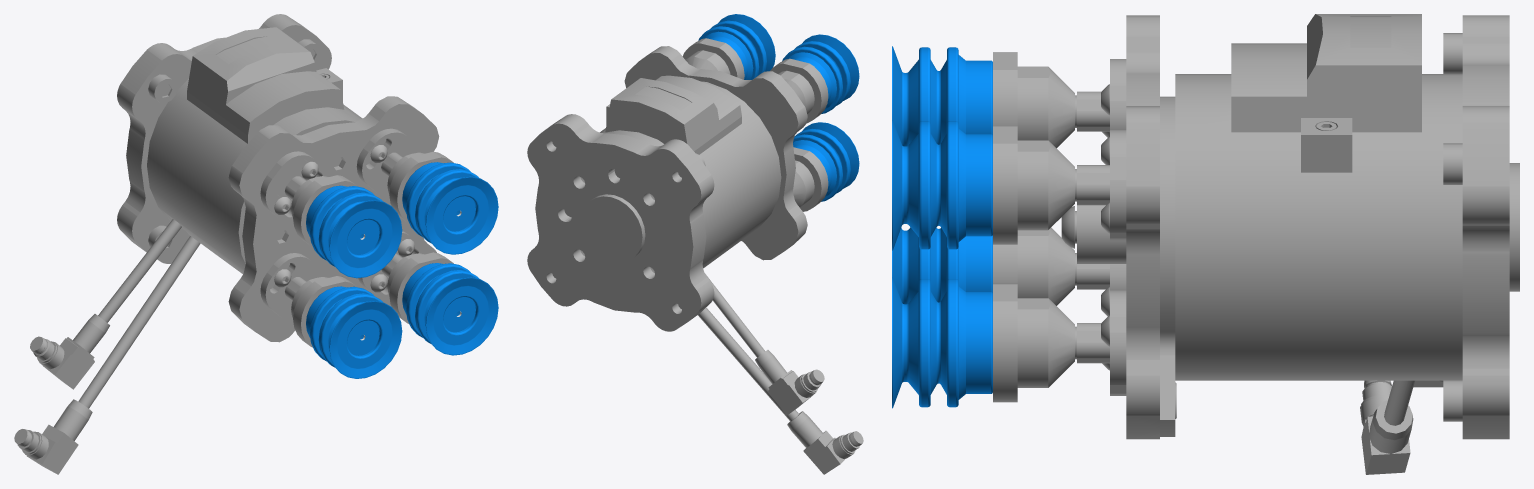
The model's file is SuctionGripper.fbx.
3 renders of one model, left to right at view 1: azimuth 30°, elevation 25°; view 2: azimuth 150°, elevation 25°; view 3: azimuth 270°, elevation 25°, orthographic. The views are drawn at different scales.
Parts seen in each view (by area): view 1: ZXP7A(0_1)_41_1, ZXP7-PFL1-A-X1(30_30_30_30_0_0_0_0_1_ZP3P)_2, ZP3P-32JT2SF-WM_10, ZP3P-32JT2SF-WM_4, ZP3P-32JT2SF-WM_8, ZP3P-32JT2SF-WM_6, ZP3PA-T2JT-7A-X2_9, ZP3PA-T2JT-7A-X2_3, ZP3PA-T2JT-7A-X2_7, ZP3PA-T2JT-7A-X2_5, M6x10_11, M6x10_12; view 2: ZXP7A(0_1)_41_1, ZXP7-PFL1-A-X1(30_30_30_30_0_0_0_0_1_ZP3P)_2, ZP3P-32JT2SF-WM_10, ZP3P-32JT2SF-WM_4, ZP3P-32JT2SF-WM_8, ZP3PA-T2JT-7A-X2_9, ZP3PA-T2JT-7A-X2_3, ZP3PA-T2JT-7A-X2_7; view 3: ZXP7A(0_1)_41_1, ZXP7-PFL1-A-X1(30_30_30_30_0_0_0_0_1_ZP3P)_2, ZP3P-32JT2SF-WM_8, ZP3P-32JT2SF-WM_6, ZP3P-32JT2SF-WM_10, ZP3PA-T2JT-7A-X2_7, ZP3PA-T2JT-7A-X2_5, ZP3PA-T2JT-7A-X2_9, ZP3P-32JT2SF-WM_4, ZP3PA-T2JT-7A-X2_3.
Part boxes in pixels (x1=…): ZXP7A(0_1)_41_1: x1=14, y1=14, x2=362, y2=474; ZXP7-PFL1-A-X1(30_30_30_30_0_0_0_0_1_ZP3P)_2: x1=228, y1=96, x2=439, y2=342; ZP3P-32JT2SF-WM_10: x1=306, y1=185, x2=402, y2=278; ZP3P-32JT2SF-WM_4: x1=306, y1=286, x2=402, y2=378; ZP3P-32JT2SF-WM_8: x1=402, y1=162, x2=498, y2=254; ZP3P-32JT2SF-WM_6: x1=402, y1=263, x2=498, y2=355; ZP3PA-T2JT-7A-X2_9: x1=291, y1=175, x2=357, y2=246; ZP3PA-T2JT-7A-X2_3: x1=291, y1=276, x2=357, y2=347; ZP3PA-T2JT-7A-X2_7: x1=387, y1=151, x2=453, y2=223; ZP3PA-T2JT-7A-X2_5: x1=387, y1=252, x2=453, y2=324; M6x10_11: x1=270, y1=223, x2=294, y2=250; M6x10_12: x1=327, y1=150, x2=351, y2=175; ZXP7A(0_1)_41_1: x1=527, y1=75, x2=863, y2=474; ZXP7-PFL1-A-X1(30_30_30_30_0_0_0_0_1_ZP3P)_2: x1=624, y1=46, x2=807, y2=260; ZP3P-32JT2SF-WM_10: x1=782, y1=34, x2=859, y2=113; ZP3P-32JT2SF-WM_4: x1=793, y1=122, x2=859, y2=201; ZP3P-32JT2SF-WM_8: x1=698, y1=14, x2=775, y2=79; ZP3PA-T2JT-7A-X2_9: x1=770, y1=58, x2=828, y2=123; ZP3PA-T2JT-7A-X2_3: x1=793, y1=147, x2=828, y2=211; ZP3PA-T2JT-7A-X2_7: x1=682, y1=38, x2=744, y2=79; ZXP7A(0_1)_41_1: x1=1175, y1=14, x2=1519, y2=474; ZXP7-PFL1-A-X1(30_30_30_30_0_0_0_0_1_ZP3P)_2: x1=1077, y1=15, x2=1176, y2=439; ZP3P-32JT2SF-WM_8: x1=892, y1=120, x2=992, y2=250; ZP3P-32JT2SF-WM_6: x1=892, y1=277, x2=992, y2=408; ZP3P-32JT2SF-WM_10: x1=892, y1=46, x2=992, y2=146; ZP3PA-T2JT-7A-X2_7: x1=993, y1=126, x2=1076, y2=244; ZP3PA-T2JT-7A-X2_5: x1=993, y1=283, x2=1076, y2=402; ZP3PA-T2JT-7A-X2_9: x1=993, y1=52, x2=1076, y2=148; ZP3P-32JT2SF-WM_4: x1=892, y1=227, x2=992, y2=304; ZP3PA-T2JT-7A-X2_3: x1=993, y1=227, x2=1076, y2=305.
Bounding box in the file's own units: 151 × 161 × 153.
